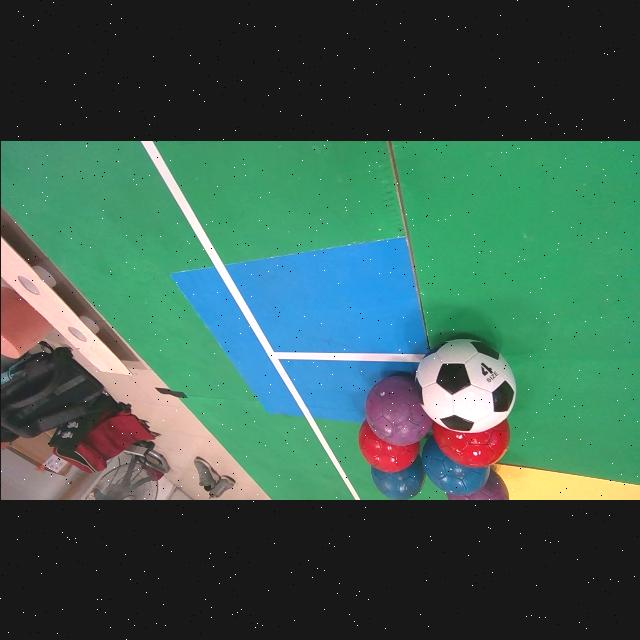B: (421, 437, 489, 495), (370, 456, 424, 500)
P: (365, 374, 432, 445), (447, 470, 508, 500)
R: (432, 419, 509, 468), (357, 421, 418, 473)
